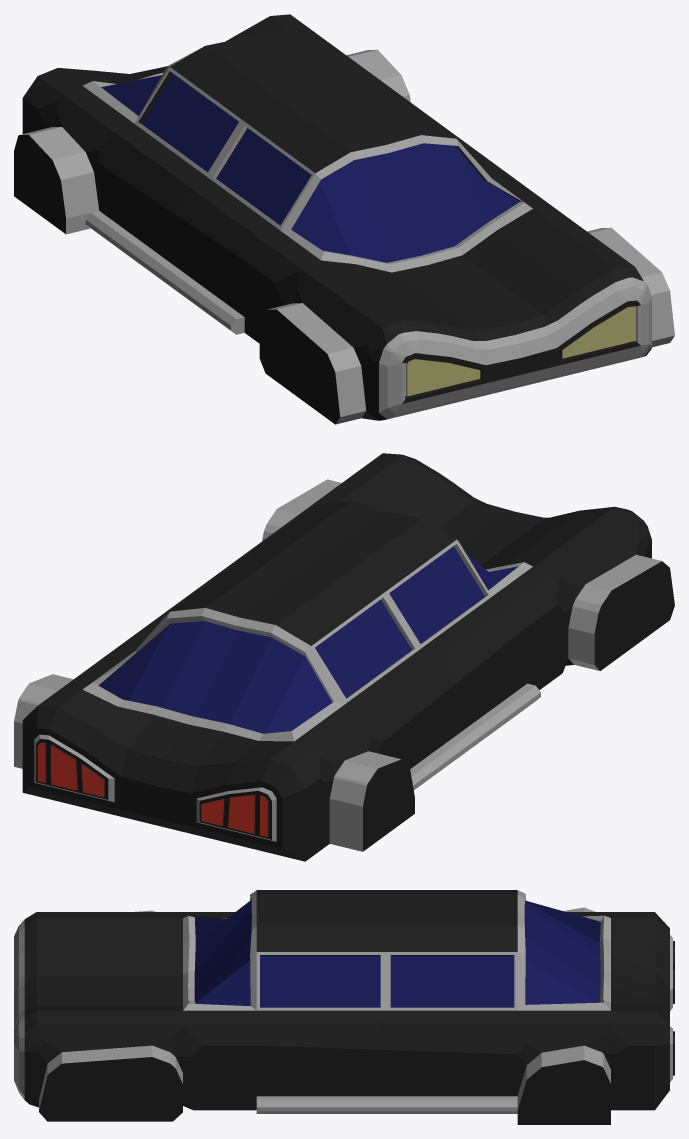
Rendered from flylimo.fbx.
3 views of the same model, one above another, from view 1: azimuth 30°, elevation 25°; view 2: azimuth 150°, elevation 25°; view 3: azimuth 270°, elevation 25° (orthographic). The views are drawn at different scales.
Visible parts, largest first — view 1: flyinglimo; view 2: flyinglimo; view 3: flyinglimo.
Part boxes in pixels (left/top/right/bottom): flyinglimo: left=14, top=14, right=674, bottom=424; flyinglimo: left=14, top=453, right=674, bottom=861; flyinglimo: left=14, top=890, right=674, bottom=1124.
Size of the model in its own units: 827 by 350 by 1514.
